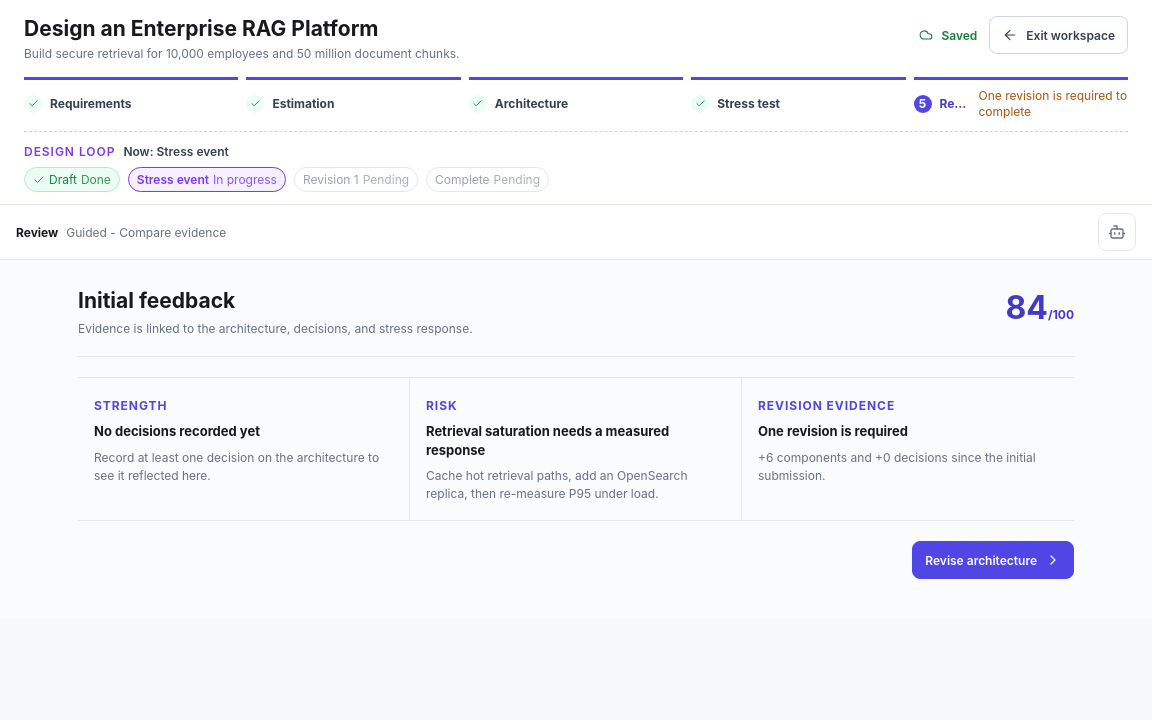
it: MissionWorkspace design loop band › marks the revision loop-back explicitly while a revision is in progress
Click the button "Revise architecture".
click(993, 560)  # box 912,541 -> 1074,579
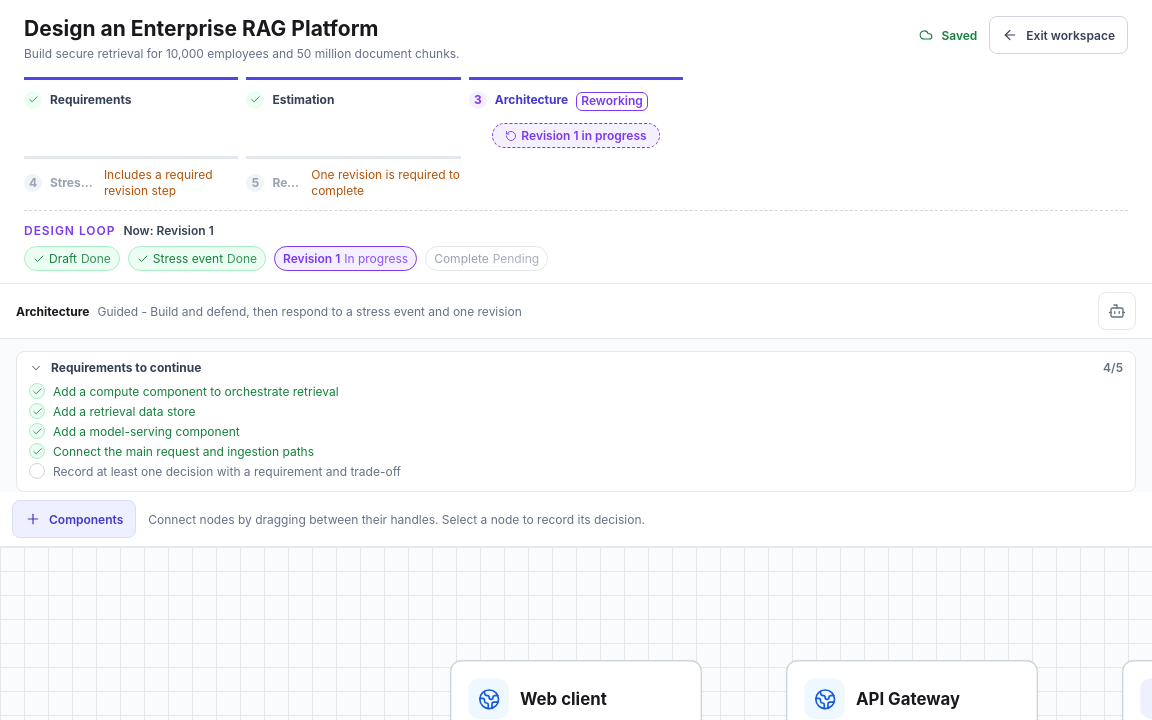
Expected: the list item "Architecture" shows "Reworking", 581,93 -> 643,108
